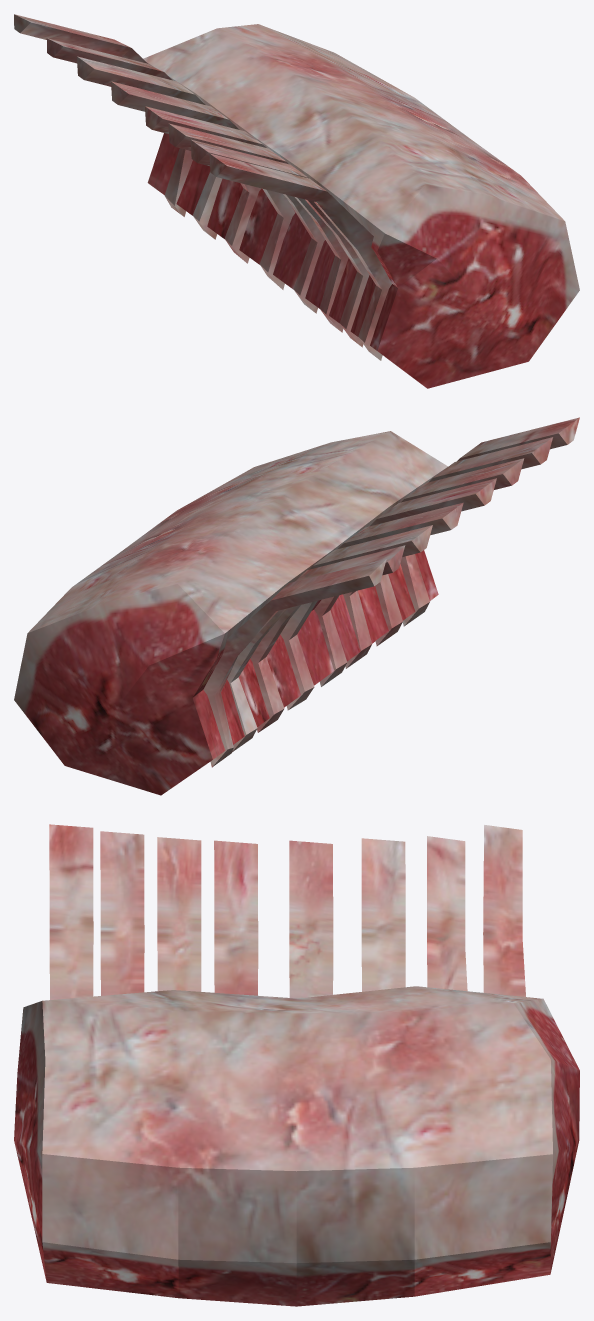
File: LambRack.fbx
The picture shows the model from 3 angles, top to bottom: view 1: azimuth 30°, elevation 25°; view 2: azimuth 150°, elevation 25°; view 3: azimuth 270°, elevation 25°; orthographic projection. The views are drawn at different scales.
Parts seen in each view (by area): view 1: LambRack; view 2: LambRack; view 3: LambRack.
Boxes of the visible parts, <box> form: LambRack: <box>14,14,579,388</box>; LambRack: <box>14,417,579,795</box>; LambRack: <box>14,824,579,1306</box>.
Size of the model in its own units: 0.3121 by 0.2321 by 0.3809.
